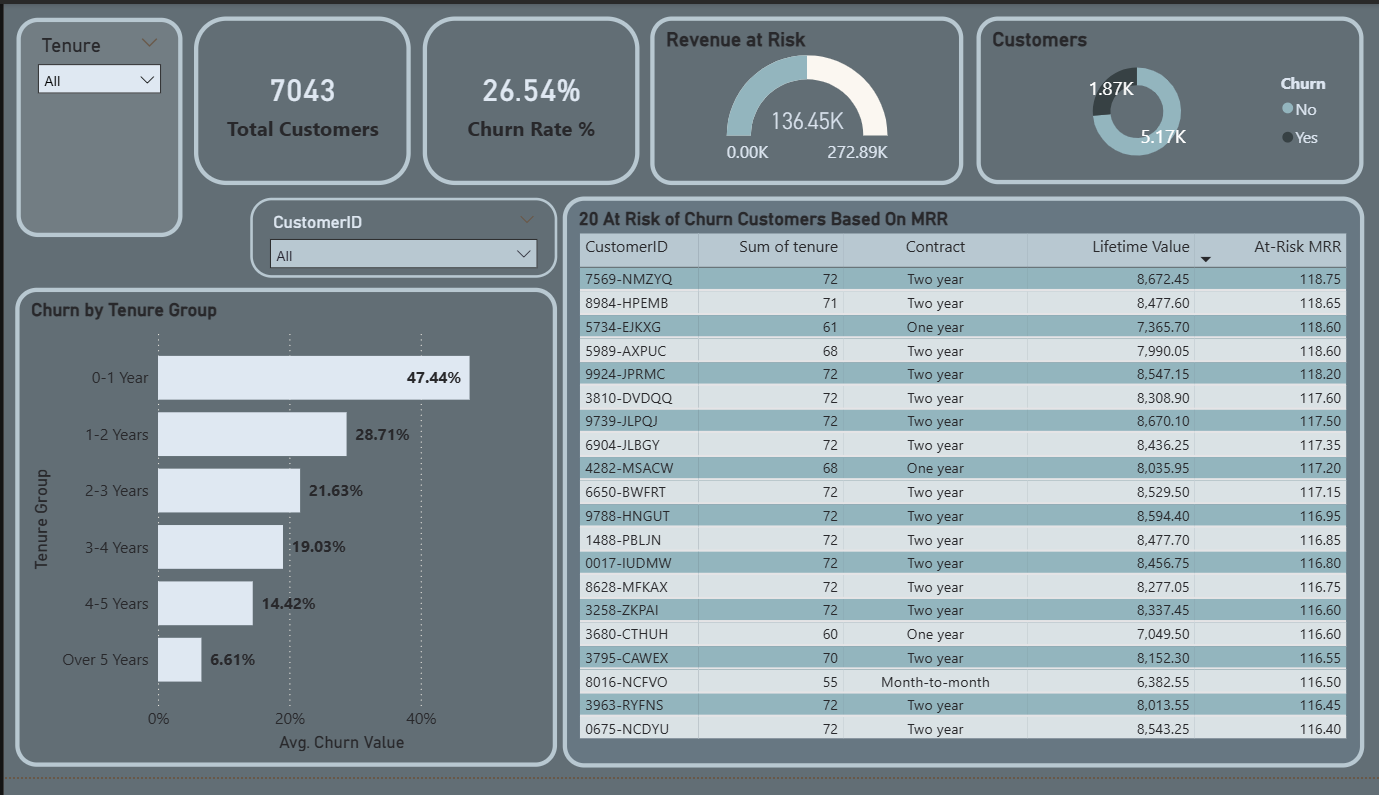

What the dashboard file says about the page in this screenshot:
{"tool":"powerbi","page":{"name":"Retention & Risk Command","canvas":[1280,720],"ordinal":0},"visuals":[{"type":"card","fields":{"Values":["CountNonNull(telecom telco_analytics.customerID)"]},"box":[177.1,11.4,201.4,157.1],"z":0},{"type":"card","fields":{"Values":["Avg(telecom telco_analytics.Churn_Value)"]},"box":[390,11.4,201.4,157.1],"z":1000},{"type":"donutChart","title":"Customers ","fields":{"Category":["telecom telco_analytics.Churn"],"Y":["Count(telecom telco_analytics.customerID)"]},"box":[904.3,11.4,360,155.7],"z":2000},{"type":"clusteredBarChart","title":"Churn by Tenure Group","fields":{"Category":["telecom telco_analytics.Tenure_Group"],"Y":["Avg(telecom telco_analytics.Churn_Value)"]},"box":[11,263.5,503.6,446],"z":3000},{"type":"tableEx","title":"20 At Risk of Churn Customers Based On MRR","fields":{"Values":["telecom telco_analytics.customerID","Sum(telecom telco_analytics.tenure)","telecom telco_analytics.Contract","Sum(telecom telco_analytics.TotalCharges)","Sum(telecom telco_analytics.MonthlyCharges)"]},"box":[520,178.6,745.7,531.4],"z":4000},{"type":"slicer","fields":{"Values":["telecom telco_analytics.Tenure_Group"]},"box":[11.4,12.9,154.3,204.3],"z":5000},{"type":"gauge","fields":{"Y":["telecom telco_analytics.Revenue at Risk"]},"box":[601.4,11.4,291.4,157.1],"z":6000},{"type":"slicer","fields":{"Values":["telecom telco_analytics.customerID"]},"box":[229.2,179.8,285.4,74.1],"z":6001}]}

Visuals, with their boxes in screenshot pixels (x1, y1, x2, y2), scaled from the page's 1280x720 canvas onto the 1379x795 screenshot:
card - CountNonNull(telecom telco_analytics.customerID): rect(191, 13, 408, 186)
card - Avg(telecom telco_analytics.Churn_Value): rect(420, 13, 637, 186)
"Customers " donutChart: rect(974, 13, 1362, 185)
"Churn by Tenure Group" clusteredBarChart: rect(12, 291, 554, 783)
"20 At Risk of Churn Customers Based On MRR" tableEx: rect(560, 197, 1364, 784)
slicer - telecom telco_analytics.Tenure_Group: rect(12, 14, 179, 240)
gauge - telecom telco_analytics.Revenue at Risk: rect(648, 13, 962, 186)
slicer - telecom telco_analytics.customerID: rect(247, 199, 554, 280)
